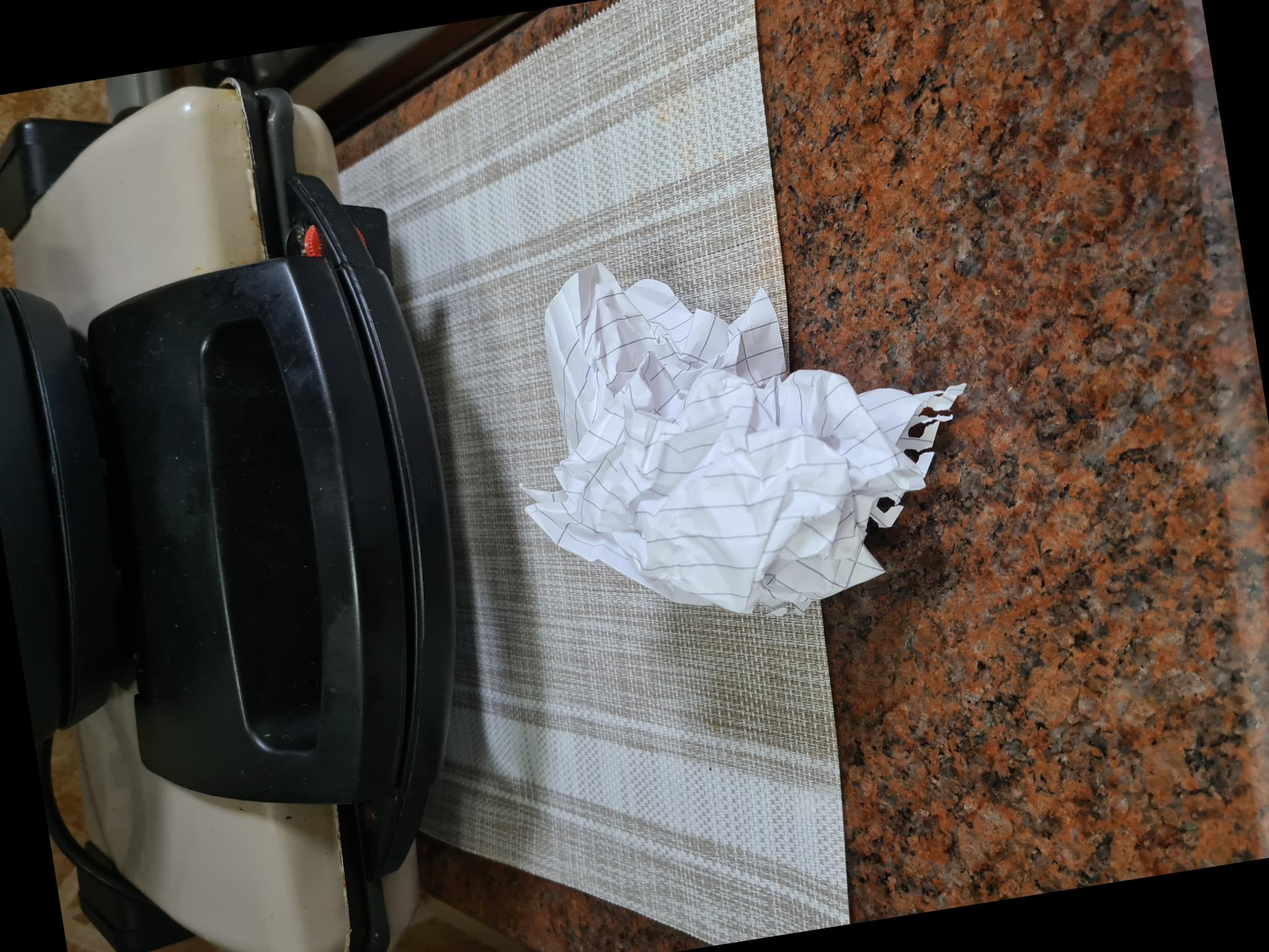Kertas: (364, 564, 720, 952)
